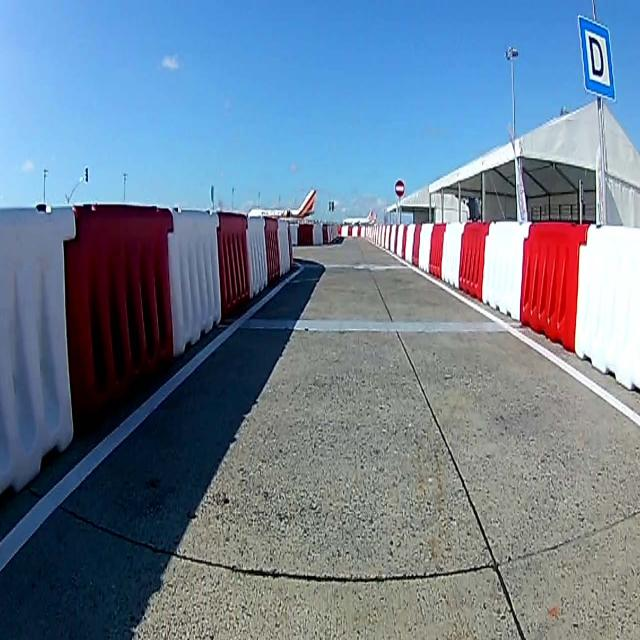durak: (578, 15, 616, 101)
girisyok: (394, 178, 404, 197)
